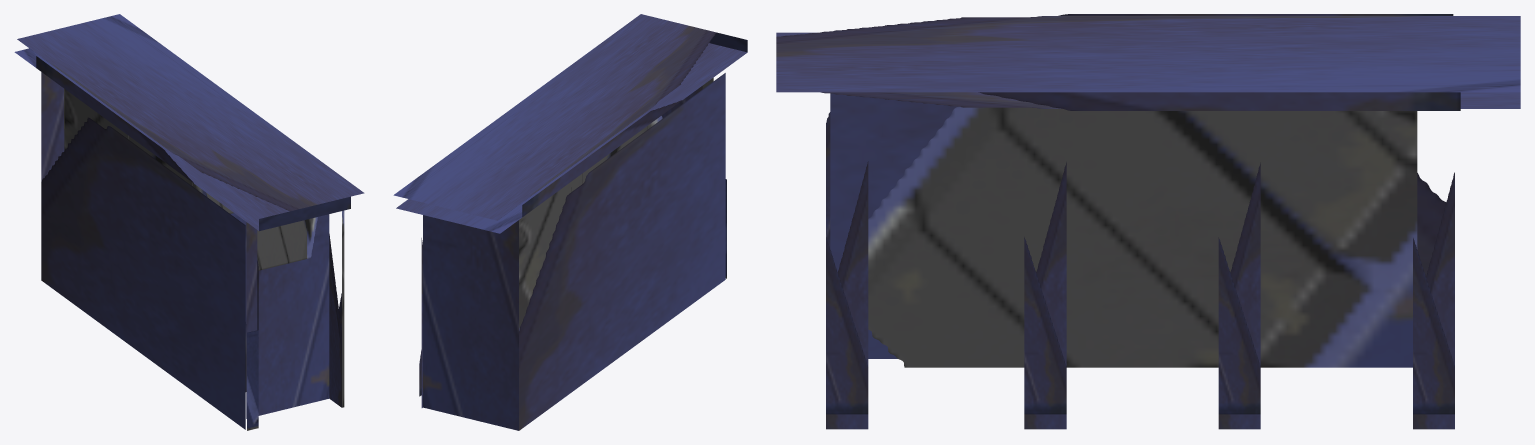
3 renders of one model, left to right at view 1: azimuth 30°, elevation 25°; view 2: azimuth 150°, elevation 25°; view 3: azimuth 270°, elevation 25°, orthographic. The views are drawn at different scales.
Bounding box in the file's own units: 0.4396 × 0.895 × 1.77.
